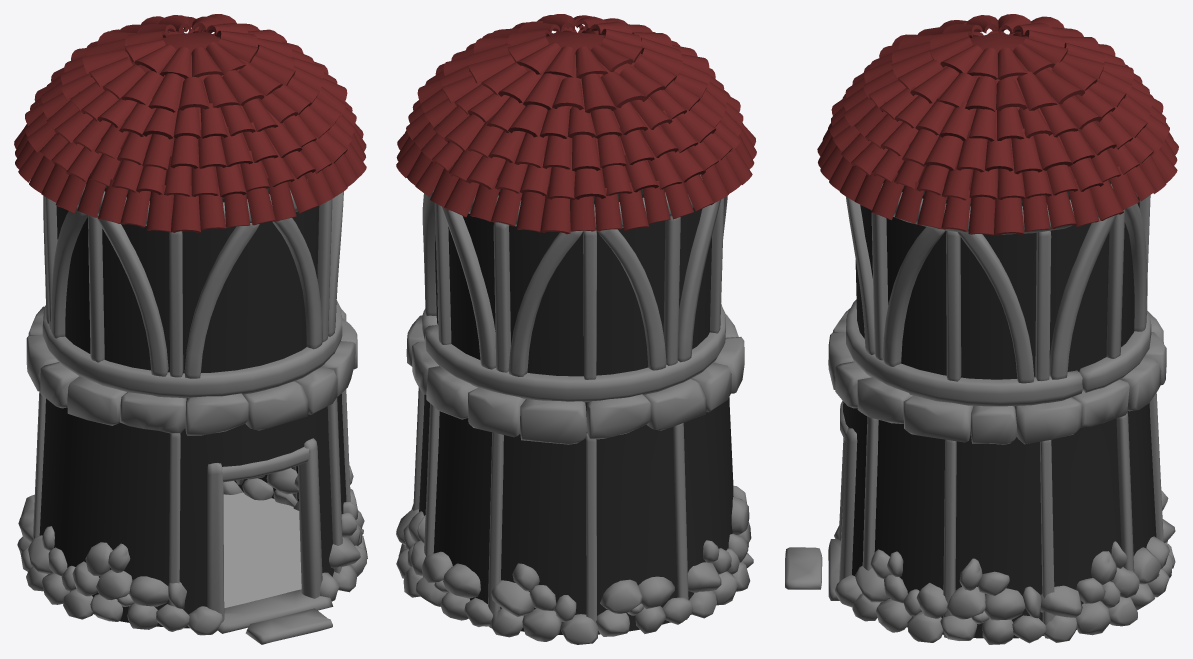
File: SM_windmill.fbx
3 renders of one model, left to right at view 1: azimuth 30°, elevation 25°; view 2: azimuth 150°, elevation 25°; view 3: azimuth 270°, elevation 25°, orthographic.
Parts seen in each view (by area): view 1: Object342674; view 2: Object342674; view 3: Object342674.
Part boxes in pixels (left/top/right/bottom): Object342674: left=14, top=14, right=367, bottom=644; Object342674: left=396, top=14, right=756, bottom=644; Object342674: left=785, top=14, right=1178, bottom=644.
Size of the model in its own units: 182 by 299 by 197.
